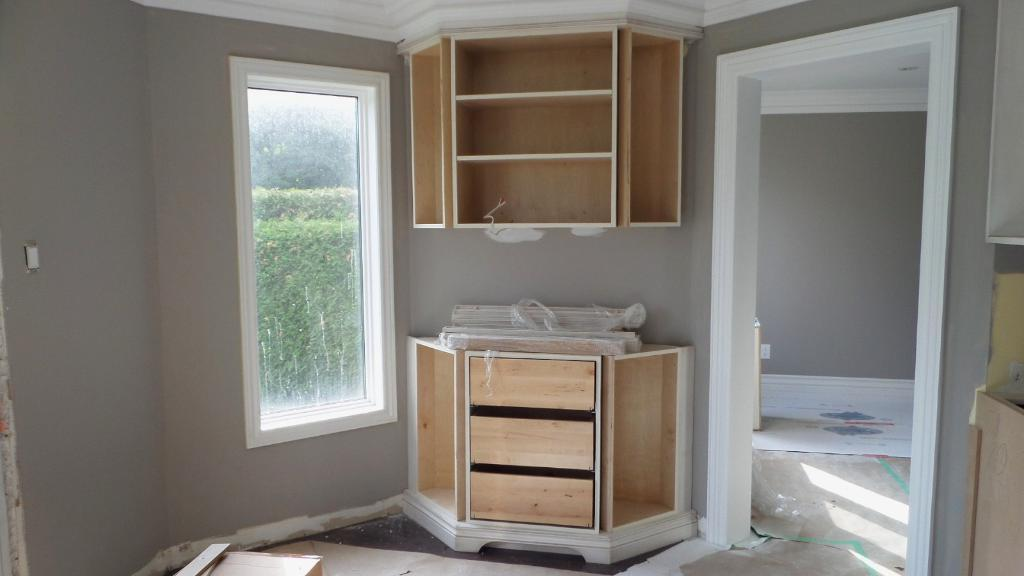cabinet_door: (468, 353, 590, 413), (472, 412, 595, 466), (474, 467, 596, 519)
handle: (476, 398, 594, 428), (472, 461, 598, 488)
